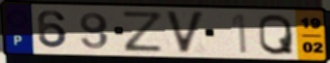1: (230, 12, 249, 56)
6: (35, 9, 69, 50)
9: (78, 11, 110, 50)
Q: (257, 12, 296, 56)
V: (163, 10, 208, 56)
Z: (120, 9, 166, 54)
